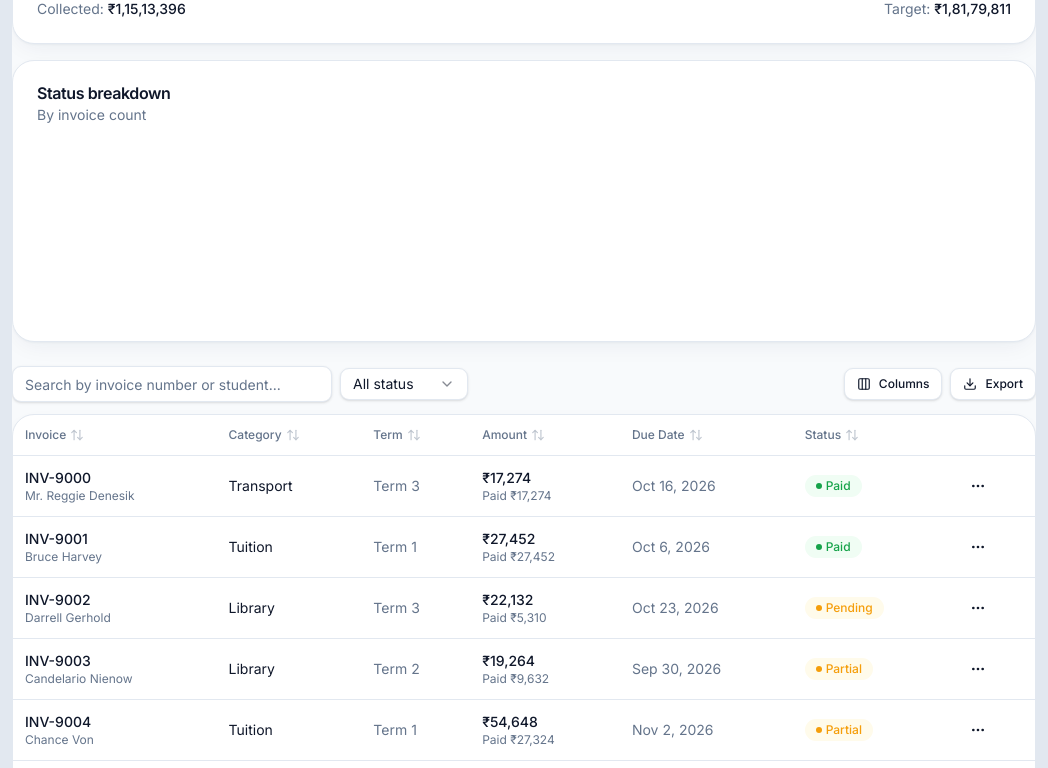
Test: FeeManagementPage › filters rows by status using the status select
(page scrolled)
Click the dropdown: (404, 384) [340,368,468,400]
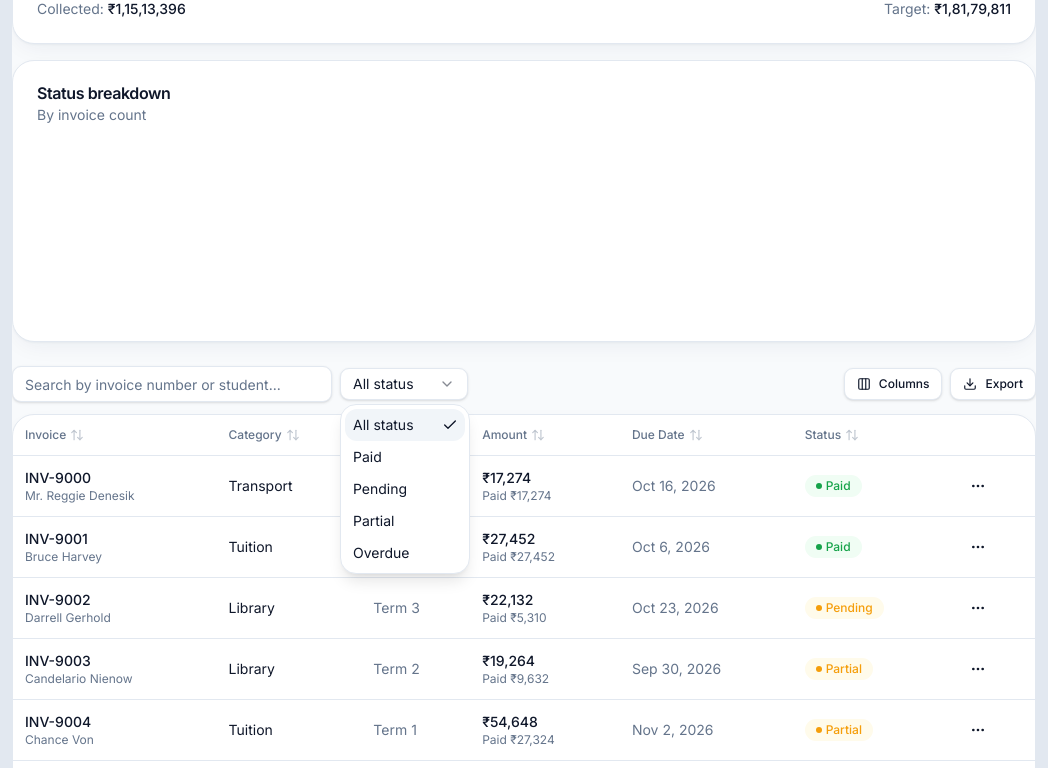
Click the option "Overdue": (381, 552) [353,544,410,561]
(page scrolled)
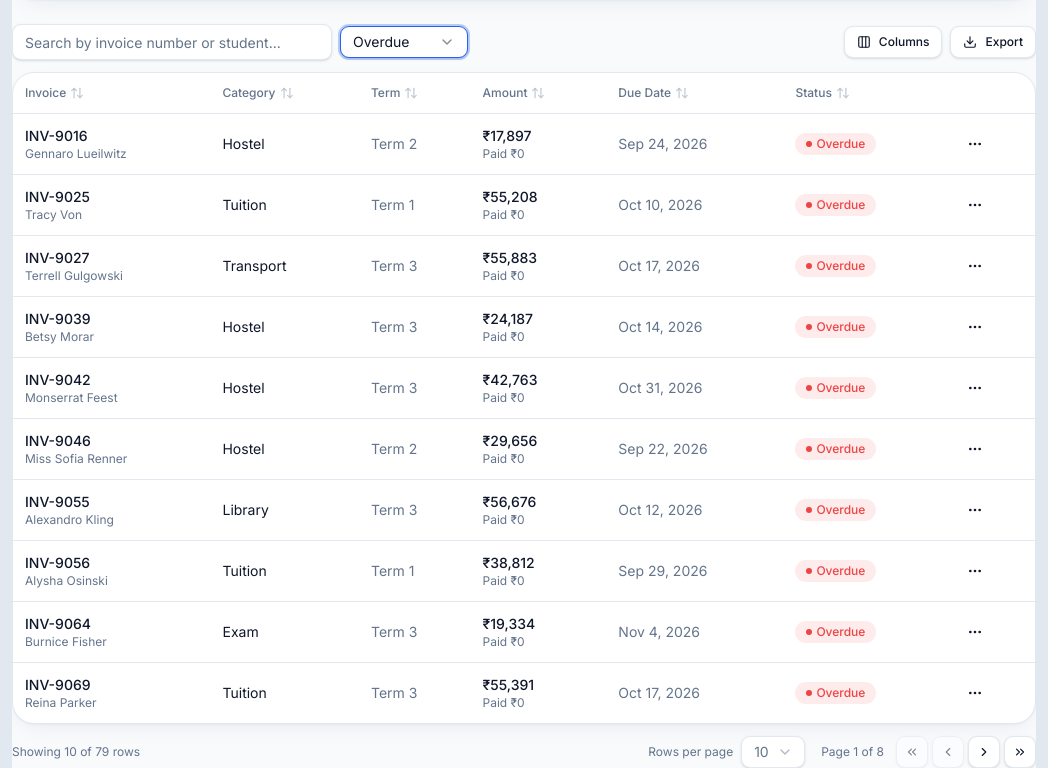
Now the text "Overdue" in the row of "INV-9016" is shown, box [816,136,865,151]
Now the text "Overdue" in the row of "INV-9025" is shown, box [816,197,865,212]
Now the text "Overdue" in the row of "INV-9027" is shown, box [816,258,865,273]
